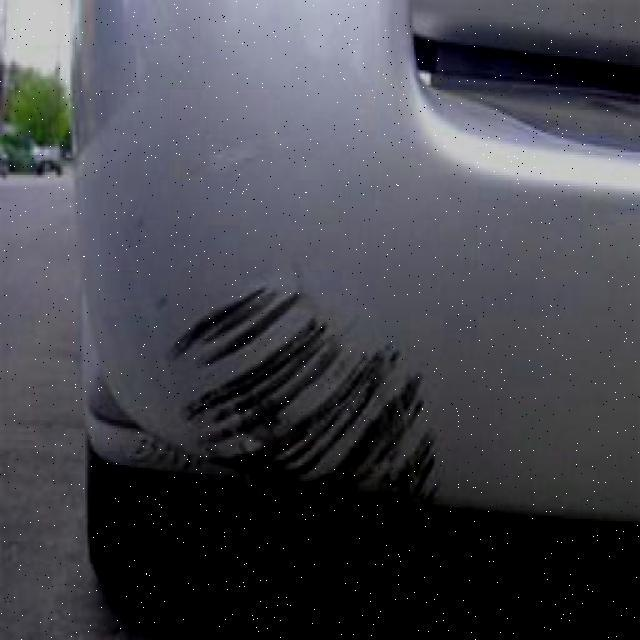car damage: (171, 279, 442, 496)
